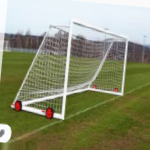goals: (11, 18, 129, 120)
